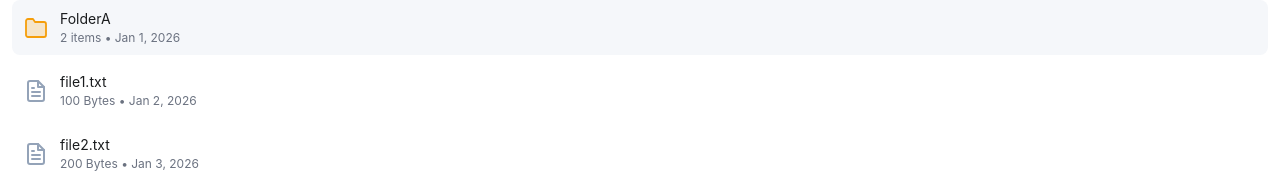
Test: TP-FE-UI-05: SelectFilesAndFolders double-click mode (BUG-064) › single click selects without opening; double click opens folder and file
Later steps or results of the test are not shown.
// Single click on folder selects it without opening
Click the option "FolderA 2 items • Jan 1, 2026" at (85, 18), box top-left (12, 0), bottom-right (1268, 55)
// Double click on folder opens it
Double-click the option "FolderA 2 items • Jan 1, 2026" at (85, 18), box top-left (12, 0), bottom-right (1268, 55)
// Single click on file selects it without opening
Click the option "file1.txt 100 Bytes • Jan 2, 2026" at (110, 90), box top-left (24, 73), bottom-right (197, 108)
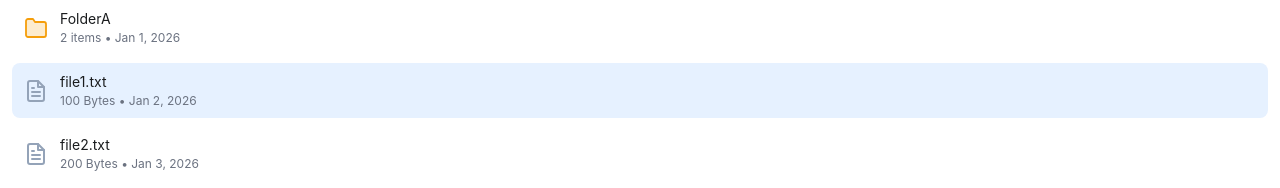
Expected: the option "file1.txt 100 Bytes • Jan 2, 2026" is selected, top-left (12, 63), bottom-right (1268, 118)
